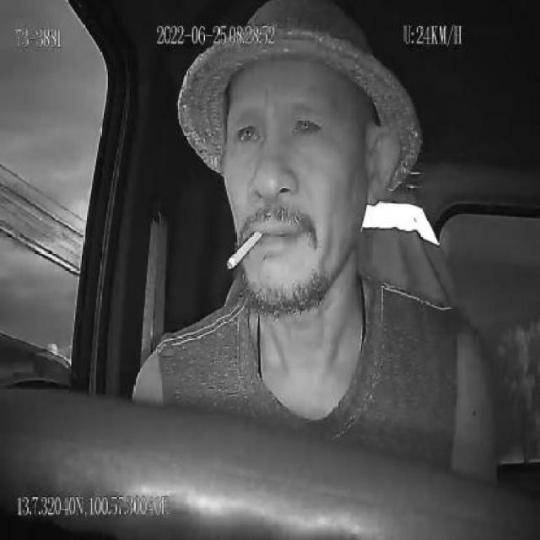smoking: (226, 229, 264, 270)
